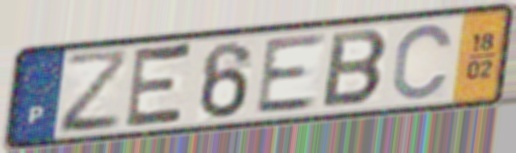6: (198, 39, 256, 121)
B: (318, 28, 391, 111)
C: (389, 21, 457, 102)
E: (121, 40, 196, 132), (252, 30, 330, 118)
Z: (58, 46, 132, 138)
